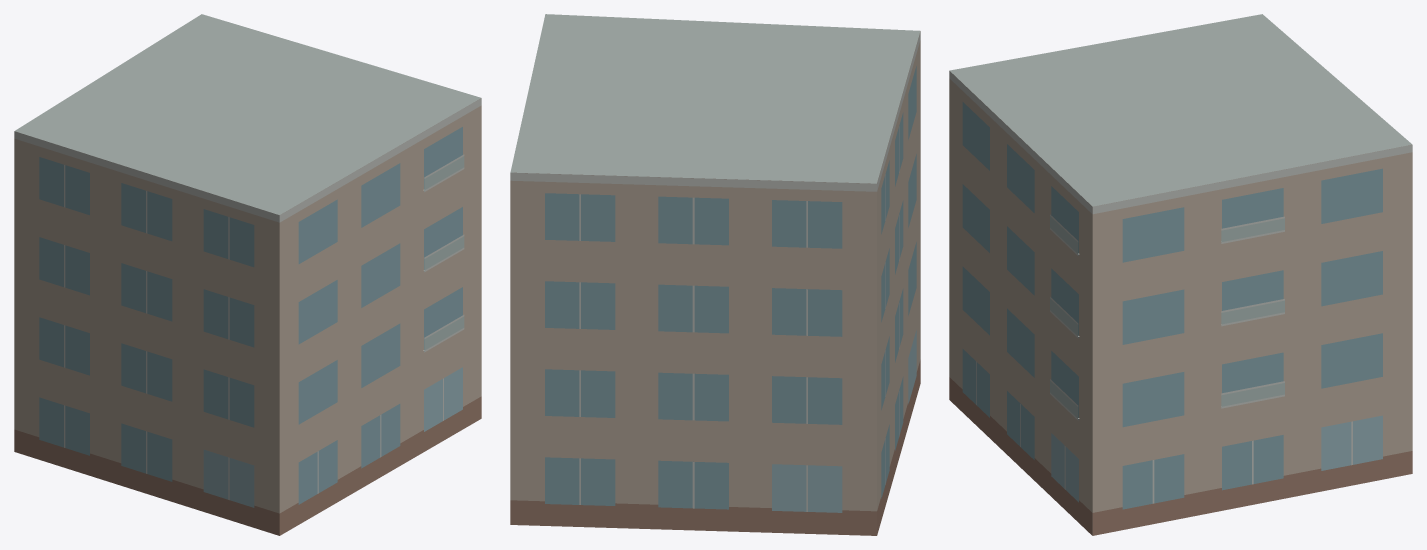
Rendered from survey-upis-32584555.glb.
The picture shows the model from 3 angles, left to right: view 1: azimuth 30°, elevation 25°; view 2: azimuth 150°, elevation 25°; view 3: azimuth 270°, elevation 25°; orthographic projection. The views are drawn at different scales.
Parts seen in each view (by area): view 1: survey-upis-32584555.tmp; view 2: survey-upis-32584555.tmp; view 3: survey-upis-32584555.tmp.
Part boxes in pixels (x1,y1,x2,y2): survey-upis-32584555.tmp: (14,14,481,535); survey-upis-32584555.tmp: (510,14,920,535); survey-upis-32584555.tmp: (949,14,1412,535).
Size of the model in its own units: 13.19 by 10.5 by 13.4.
